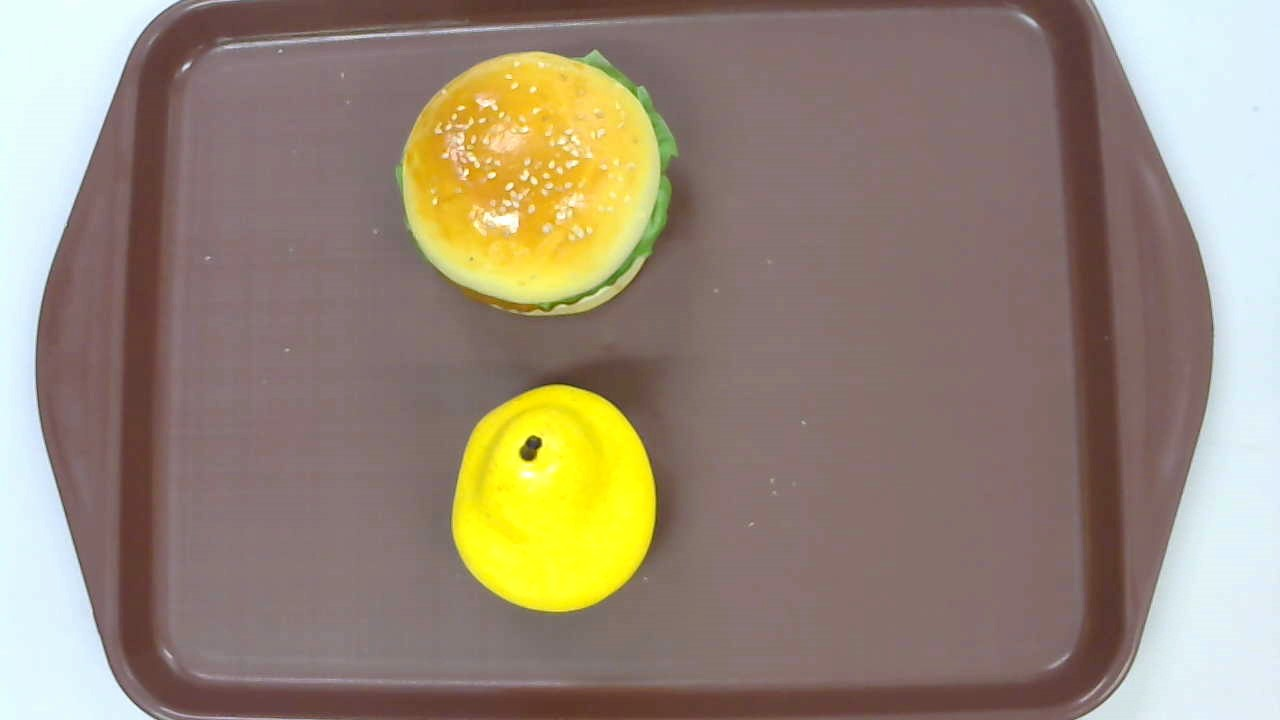hamburger: (391, 47, 685, 317)
yellow pear: (449, 382, 656, 614)
